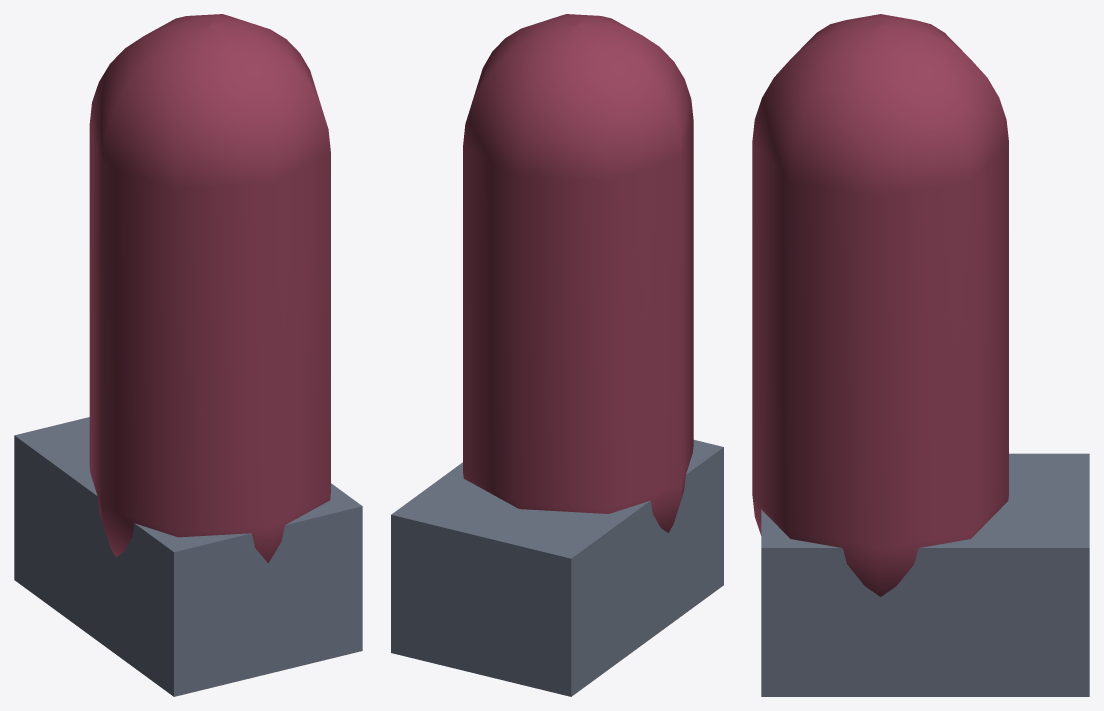
The model's file is elite_leg.glb.
3 renders of one model, left to right at view 1: azimuth 30°, elevation 25°; view 2: azimuth 150°, elevation 25°; view 3: azimuth 270°, elevation 25°, orthographic. The views are drawn at different scales.
Visible parts, largest first — view 1: elite_leg; view 2: elite_leg; view 3: elite_leg.
Boxes of the visible parts, x1,y1,x2,y2 form: elite_leg: [14, 14, 362, 696]; elite_leg: [391, 14, 723, 696]; elite_leg: [752, 14, 1089, 696].
Bounding box in the file's own units: 0.172 × 0.461 × 0.226.
